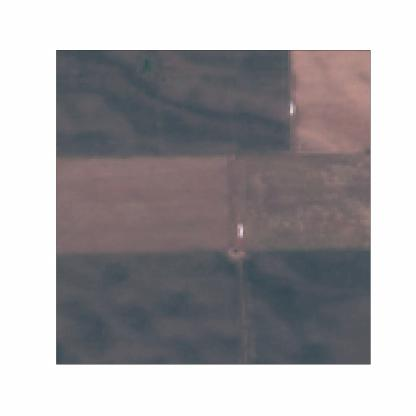silobolsa: (287, 97, 297, 117), (237, 221, 243, 242)
